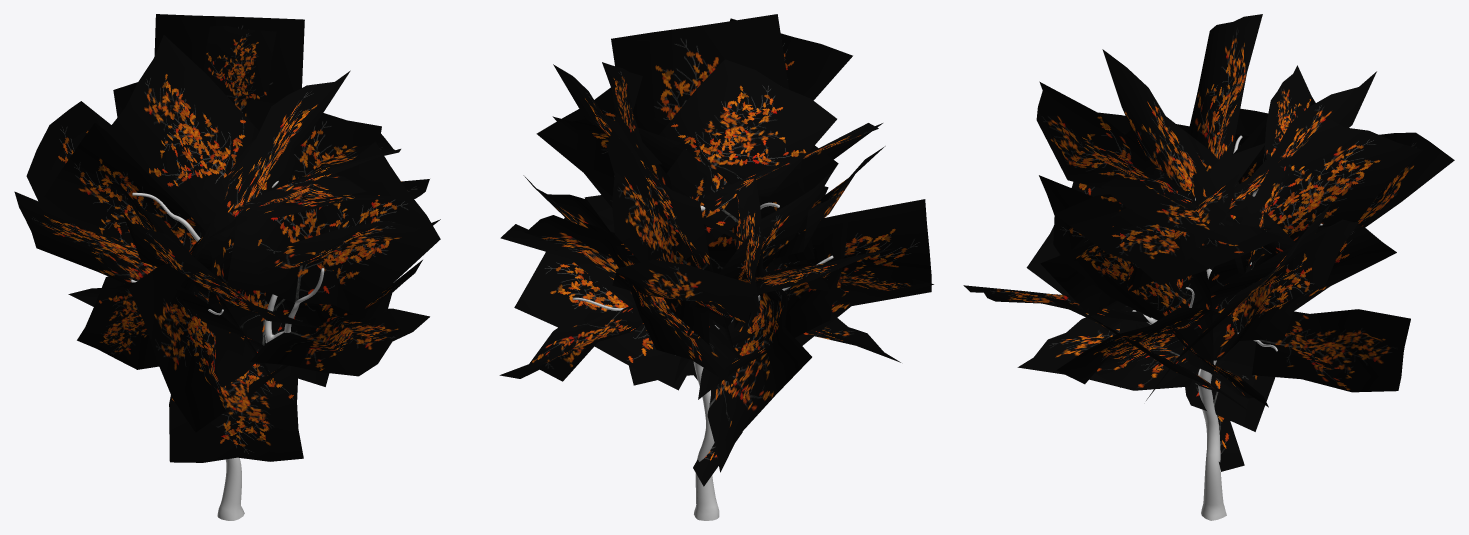
Rendered from tree_U.fbx.
3 renders of one model, left to right at view 1: azimuth 30°, elevation 25°; view 2: azimuth 150°, elevation 25°; view 3: azimuth 270°, elevation 25°, orthographic. The views are drawn at different scales.
Visible parts, largest first — view 1: Plane.025, BezierCurve; view 2: Plane.025, BezierCurve; view 3: Plane.025, BezierCurve.
Part boxes in pixels (x1=…): Plane.025: x1=14, y1=14, x2=440, y2=462; BezierCurve: x1=130, y1=181, x2=324, y2=520; Plane.025: x1=499, y1=14, x2=933, y2=486; BezierCurve: x1=572, y1=202, x2=833, y2=520; Plane.025: x1=963, y1=14, x2=1454, y2=471; BezierCurve: x1=1132, y1=135, x2=1322, y2=520.
Size of the model in its own units: 720 by 884 by 822.
